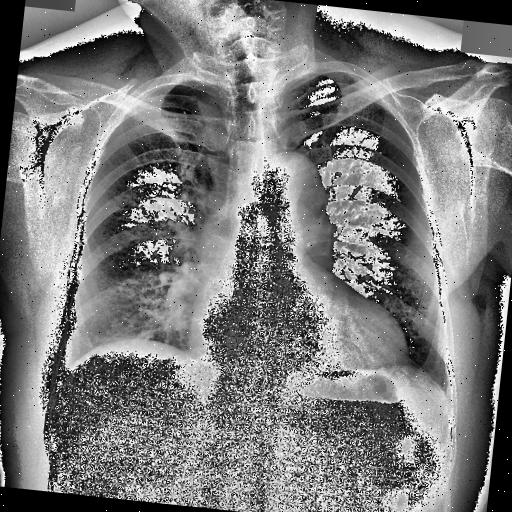0- Aortic enlargement: (255, 152, 341, 254), (252, 150, 340, 240), (252, 152, 333, 240)
3- Cardiomegaly: (181, 280, 419, 381), (183, 312, 410, 396), (188, 301, 411, 369)
